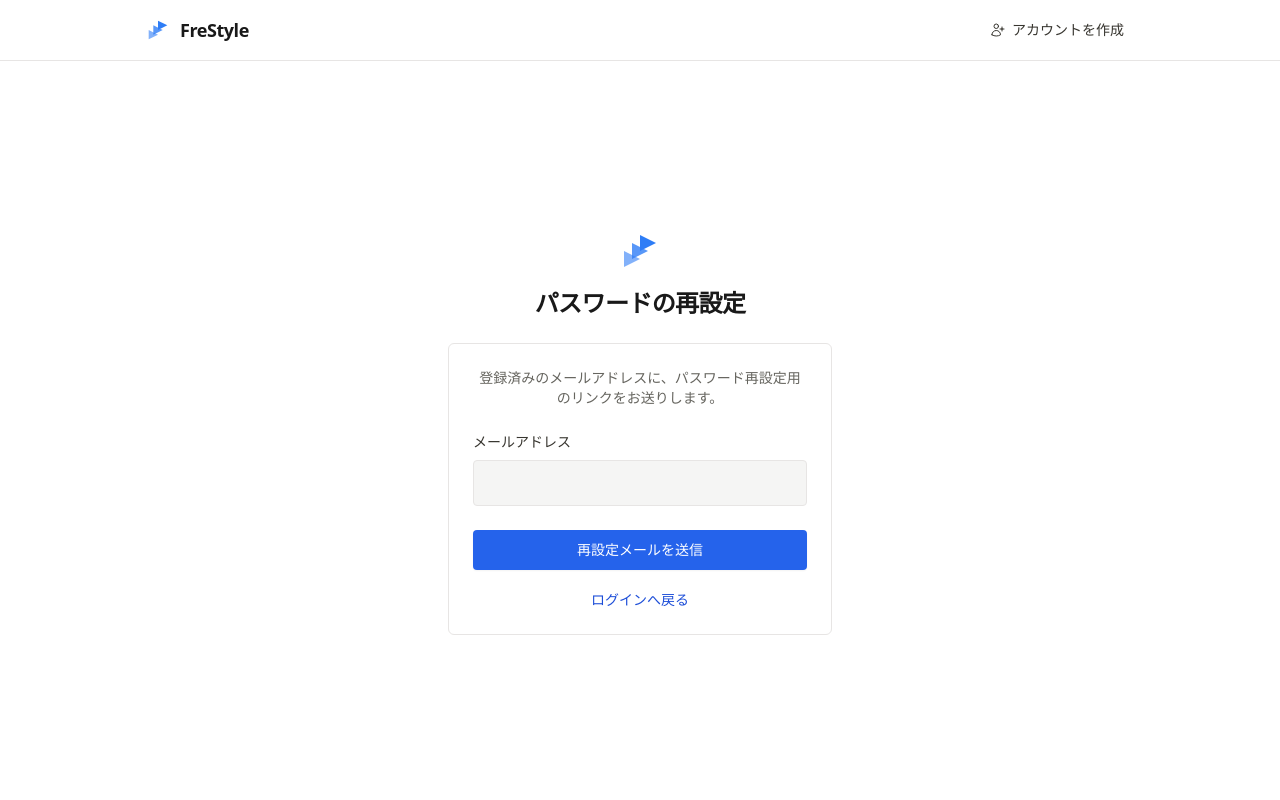
Scenario: PasswordResetPage（Firebase モード） › 送信すると sendPasswordResetEmail が呼ばれ、確認の案内に切り替わる
In the field labelled "メールアドレス": coordinates (640, 482) x1=473 y1=460 x2=807 y2=506, type "user@example.com"
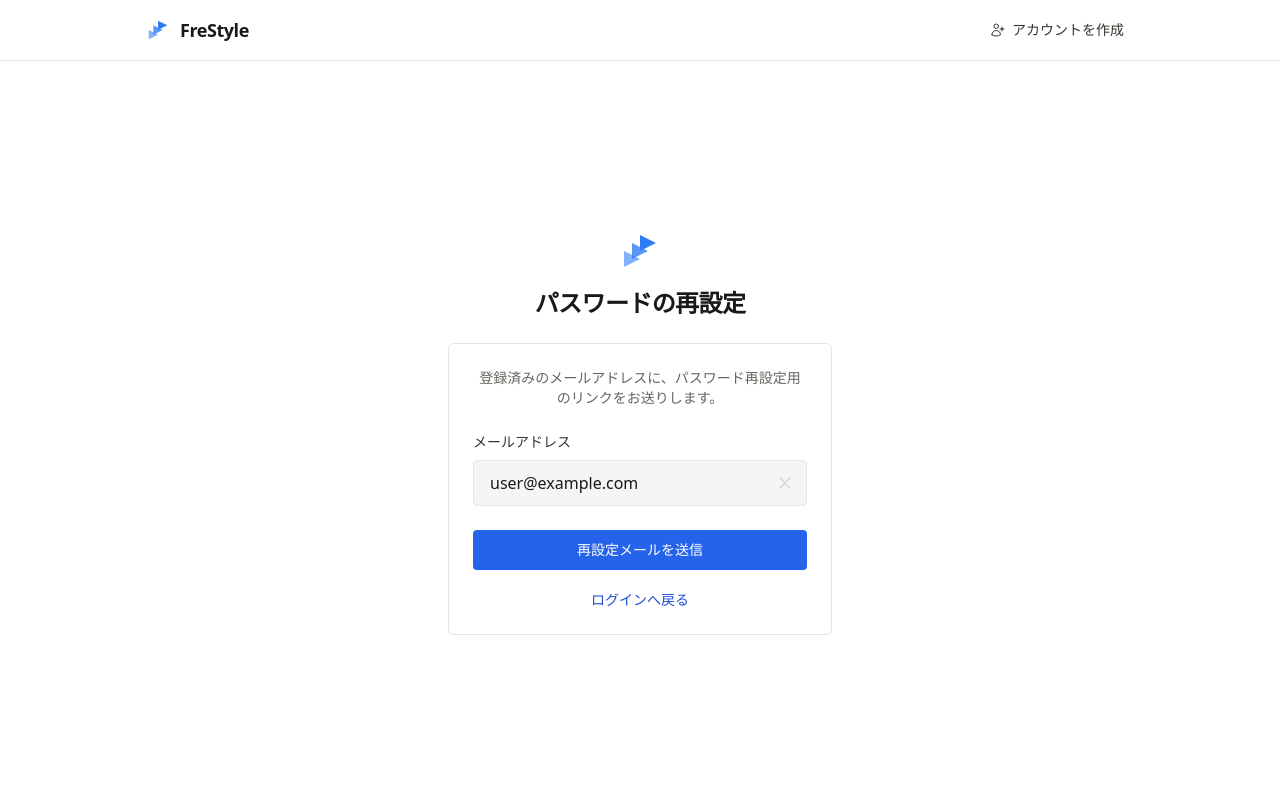
Click the button "再設定メールを送信": coordinates (640, 550) x1=473 y1=530 x2=807 y2=570
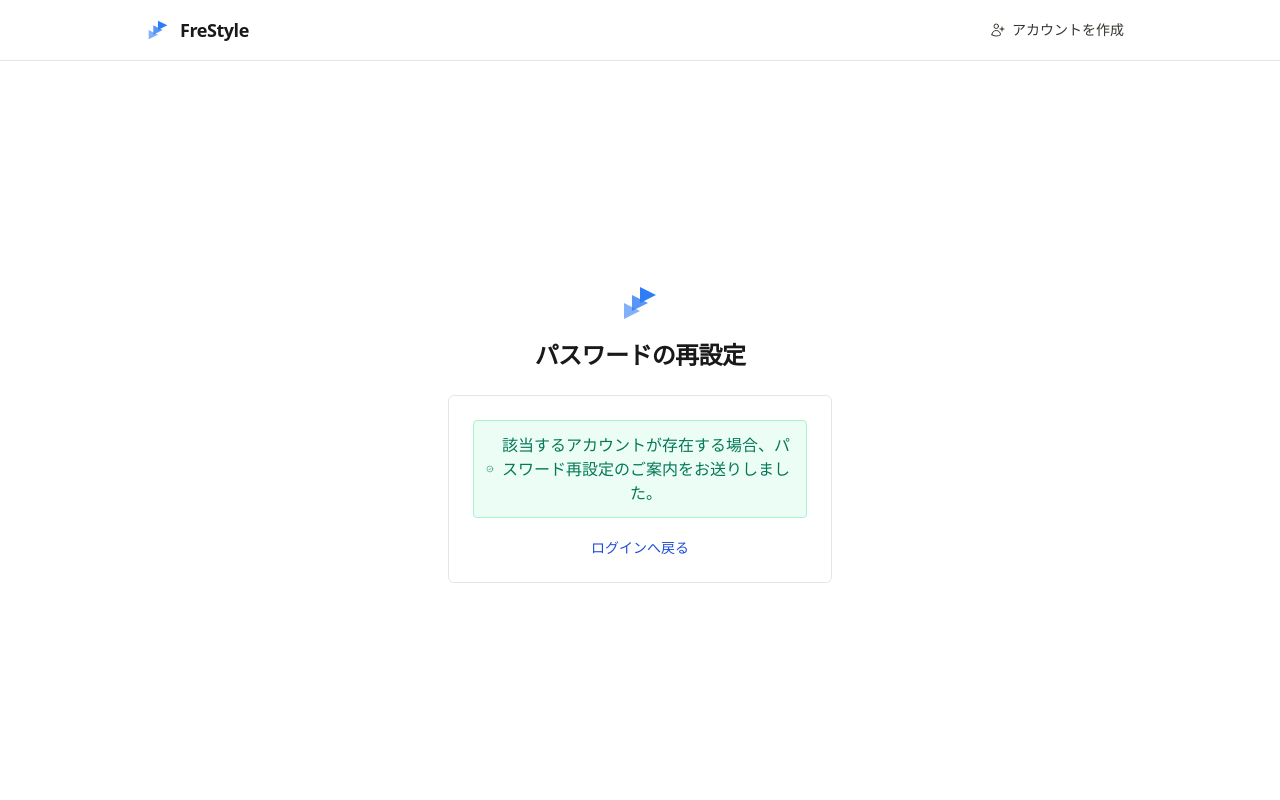
Expected: the message shows "該当するアカウントが存在する場合", x1=502 y1=434 x2=790 y2=504
Expected: the text labelled "メールアドレス" is gone
